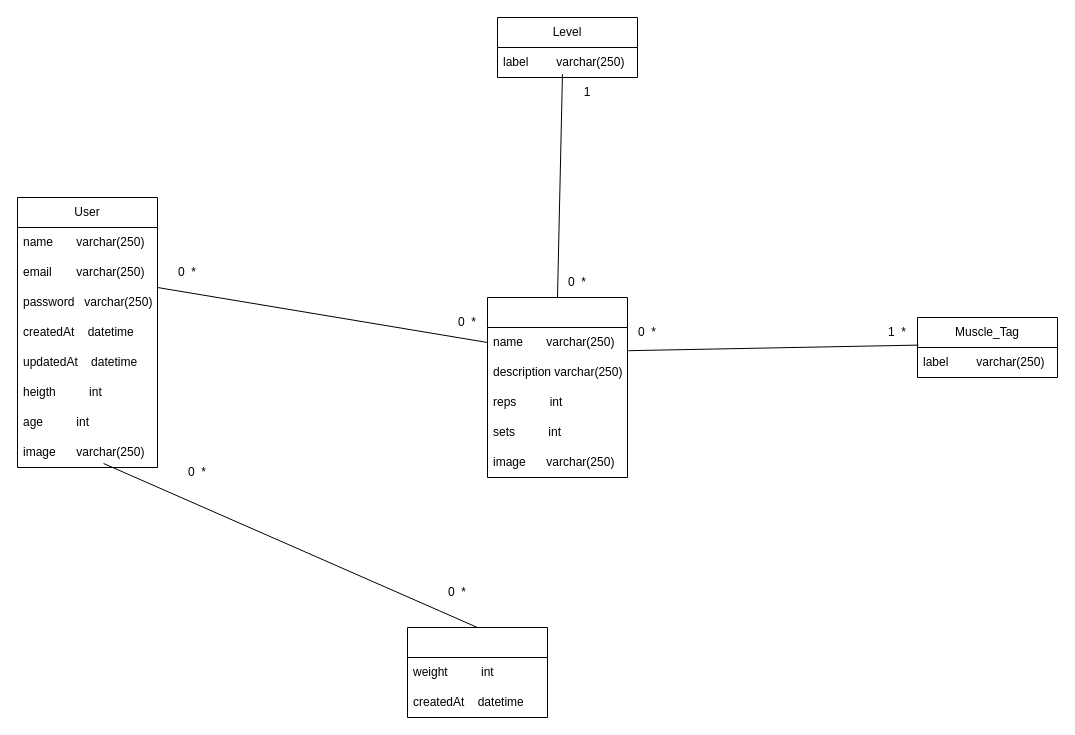
Some shapes in this 1075 by 735 pixel diagram are drawn without their labels. Each missing label, with the box of its shape:
Exercice: (486, 296, 628, 478)
Weigth: (406, 626, 548, 718)
